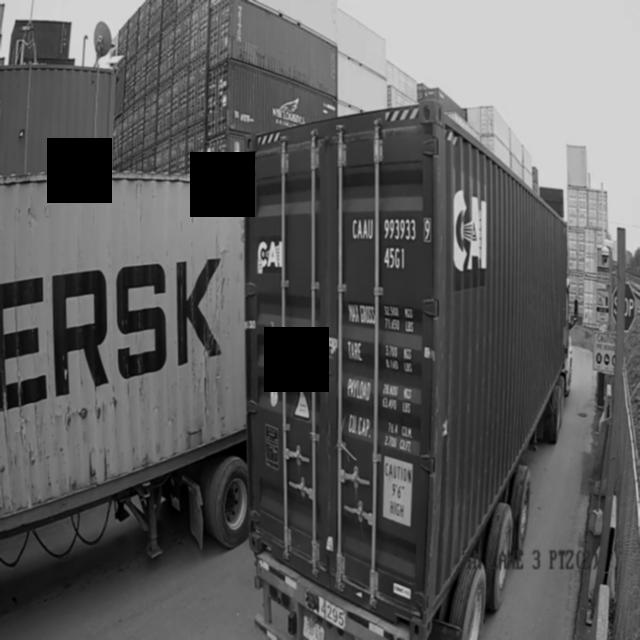container_company_logo: (257, 237, 287, 269)
container_number: (352, 212, 418, 276)
license_plate: (300, 610, 330, 640)
other_container_info: (343, 290, 421, 455)
truck_with_container: (244, 98, 574, 640), (0, 172, 259, 557)
